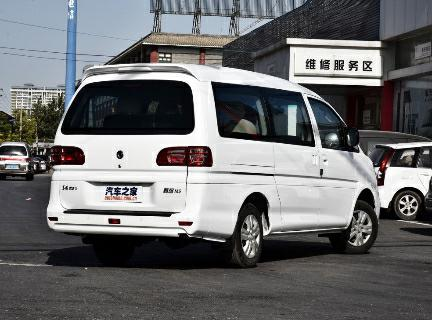东风风行-菱智: (38, 60, 384, 267)
